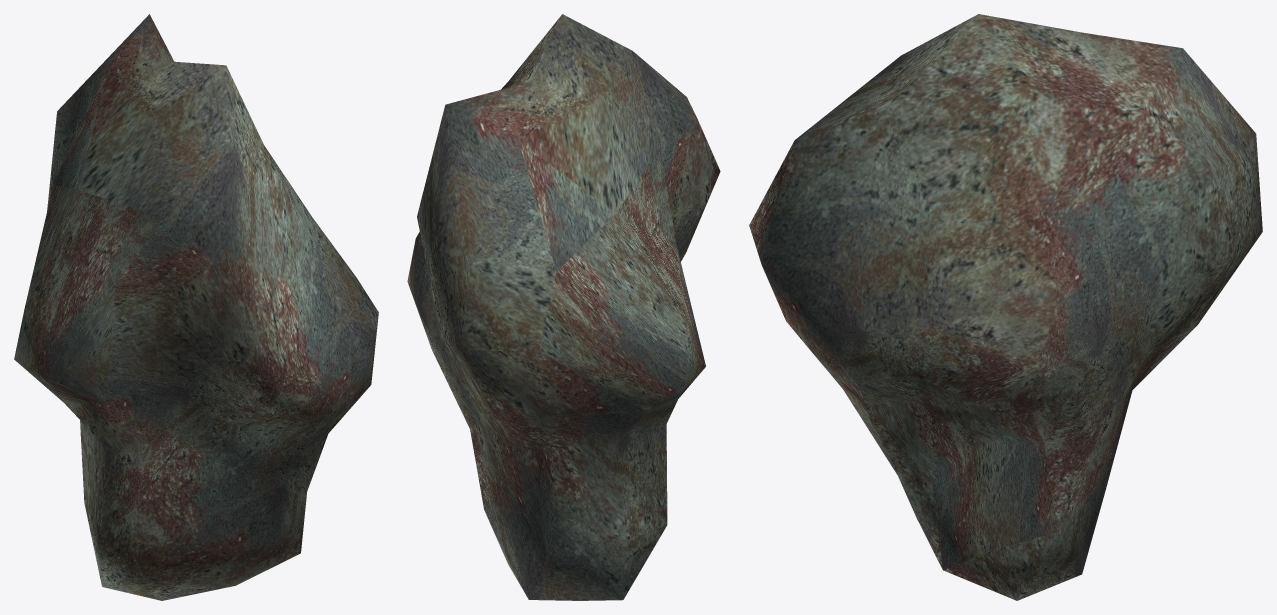
File: fels3.FBX
3 views of the same model, side by side, from view 1: azimuth 30°, elevation 25°; view 2: azimuth 150°, elevation 25°; view 3: azimuth 270°, elevation 25° (orthographic). The views are drawn at different scales.
Visible parts, largest first — view 1: fels3; view 2: fels3; view 3: fels3.
Part boxes in pixels (x1,y1,x2,y2): fels3: (14, 14, 378, 600); fels3: (407, 14, 720, 600); fels3: (749, 14, 1262, 600).
Size of the model in its own units: 649 by 930 by 1164.
Materials: 1 (1 with a texture image).
